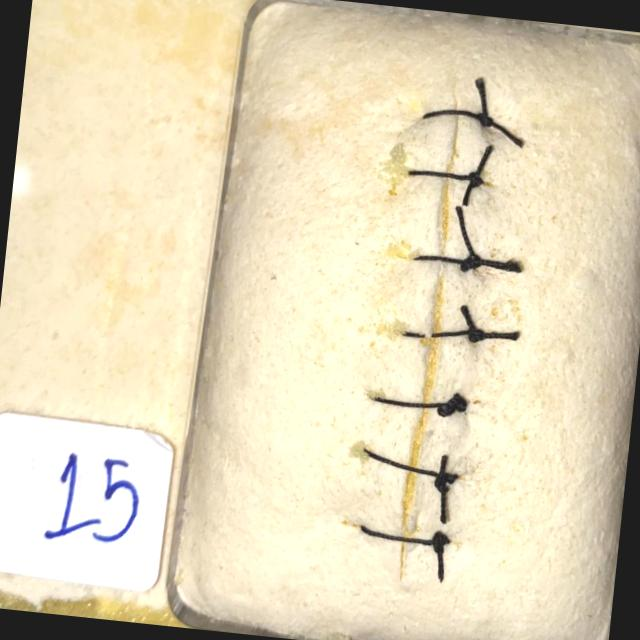knot: (439, 396, 466, 416), (435, 472, 453, 493), (432, 531, 449, 553), (460, 255, 481, 271), (468, 173, 484, 187), (477, 113, 493, 126), (468, 330, 484, 342)
leftover: (482, 117, 524, 147), (455, 202, 475, 264), (470, 142, 492, 182), (470, 258, 521, 270), (475, 75, 488, 122), (460, 302, 476, 335), (437, 473, 446, 526), (471, 330, 520, 339), (461, 177, 475, 207), (435, 402, 458, 417), (437, 539, 443, 585), (416, 537, 442, 546), (437, 453, 446, 479), (453, 390, 458, 408)
stitch: (361, 446, 460, 481), (358, 522, 451, 545), (373, 395, 468, 408), (406, 169, 486, 184), (420, 109, 494, 125), (400, 329, 485, 338), (411, 255, 483, 265)
wound: (398, 76, 460, 585)
